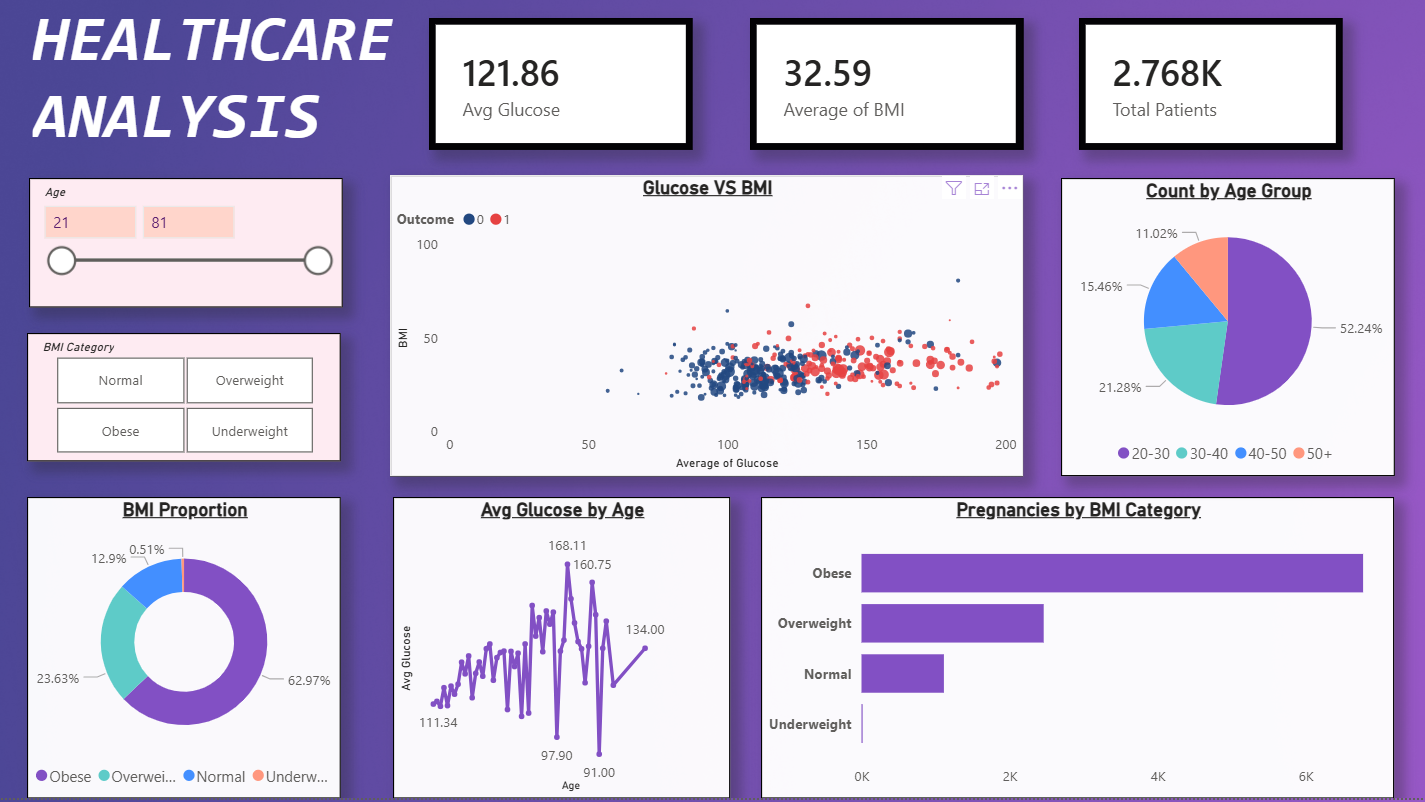

This screenshot's page, from the dashboard's own definition file:
{"tool":"powerbi","page":{"name":"Page 1","canvas":[1280,720],"ordinal":0},"visuals":[{"type":"textbox","box":[27.8,0,566,280.3],"z":0},{"type":"cardVisual","fields":{"Data":["Avg(Sheet1.Glucose)"]},"box":[387.8,21.9,236.2,118.1],"z":1},{"type":"cardVisual","fields":{"Data":["Count(Sheet1.Id)"]},"box":[969.5,21.9,236.2,118.1],"z":2},{"type":"cardVisual","fields":{"Data":["Avg(Sheet1.BMI)"]},"box":[675,21.9,244.9,118.1],"z":3},{"type":"scatterChart","title":"Glucose VS BMI","fields":{"X":["Avg(Sheet1.Glucose)"],"Y":["Sheet1.BMI"],"Series":["Sheet1.Outcome"],"Size":["Sum(Sheet1.Insulin)"]},"box":[352.8,161.8,567.1,269.7],"z":4},{"type":"barChart","title":"Pregnancies by BMI Category","fields":{"Category":["Sheet1.BMICategory"],"Y":["Sum(Sheet1.Pregnancies)"]},"box":[685.2,450.5,567.1,269.7],"z":5},{"type":"pieChart","title":"Count by Age Group","fields":{"Category":["Sheet1.AgeGroup"],"Y":["CountNonNull(Sheet1.AgeGroup)"]},"box":[953.4,164.7,298.9,266.8],"z":8},{"type":"lineChart","fields":{"Category":["Sheet1.Age"],"Y":["Avg(Sheet1.Glucose)"]},"box":[355.5,450.4,301.8,269.6],"z":9},{"type":"slicer","fields":{"Values":["Sheet1.Age"]},"box":[27.8,164.8,281.2,115.5],"z":10},{"type":"slicer","fields":{"Values":["Sheet1.BMICategory"]},"box":[27.7,303.2,281.4,115.2],"z":11},{"type":"donutChart","title":"BMI Proportion","fields":{"Category":["Sheet1.BMICategory"],"Y":["CountNonNull(Sheet1.BMICategory)"]},"box":[27.7,450.5,281.4,269.7],"z":12}]}

Visuals, with their boxes in screenshot pixels (x1, y1, x2, y2), scaled from the page's 1280x720 canvas onto the 1425x802 screenshot:
textbox: bbox(31, 0, 661, 312)
cardVisual - Avg(Sheet1.Glucose): bbox(432, 24, 695, 156)
cardVisual - Count(Sheet1.Id): bbox(1079, 24, 1342, 156)
cardVisual - Avg(Sheet1.BMI): bbox(751, 24, 1024, 156)
"Glucose VS BMI" scatterChart: bbox(393, 180, 1024, 481)
"Pregnancies by BMI Category" barChart: bbox(763, 502, 1394, 801)
"Count by Age Group" pieChart: bbox(1061, 183, 1394, 481)
lineChart - Sheet1.Age x Avg(Sheet1.Glucose): bbox(396, 502, 732, 801)
slicer - Sheet1.Age: bbox(31, 184, 344, 312)
slicer - Sheet1.BMICategory: bbox(31, 338, 344, 466)
"BMI Proportion" donutChart: bbox(31, 502, 344, 801)
